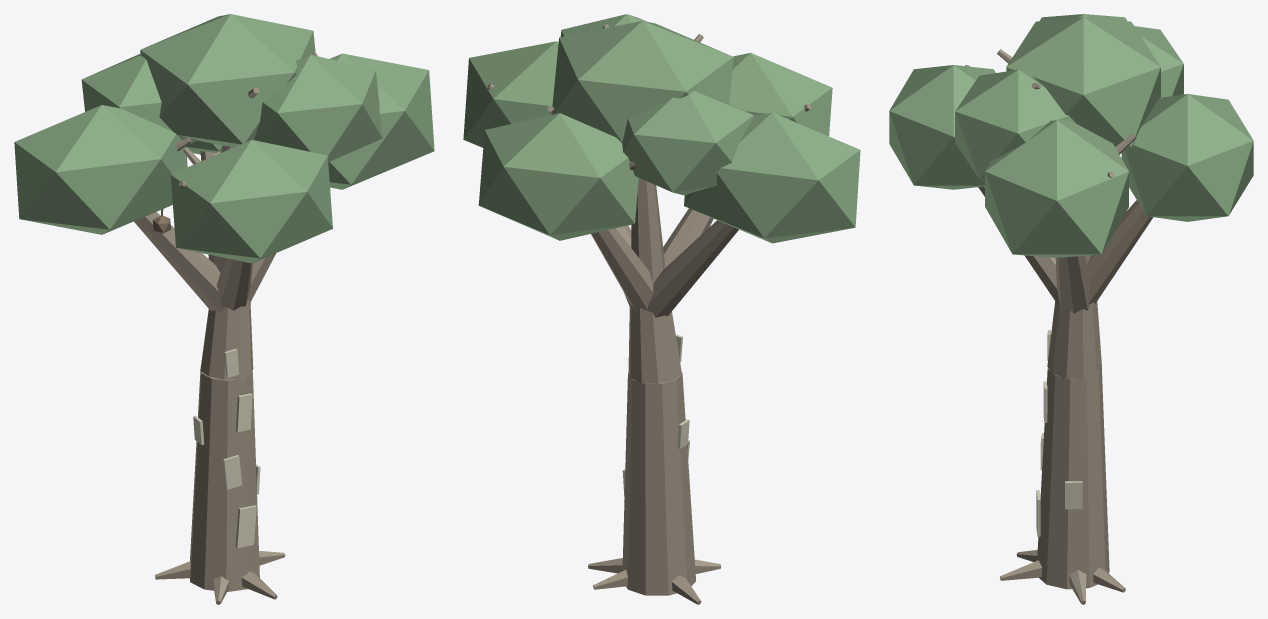
Rendered from xinhua-plane-tree-identity.glb.
3 views of the same model, side by side, from view 1: azimuth 30°, elevation 25°; view 2: azimuth 150°, elevation 25°; view 3: azimuth 270°, elevation 25° (orthographic).
Visible parts, largest first — view 1: xinhua-plane-tree-foliage-identity, xinhua-plane-tree-bark-identity, xinhua-plane-tree-bark-pale-identity; view 2: xinhua-plane-tree-foliage-identity, xinhua-plane-tree-bark-identity; view 3: xinhua-plane-tree-foliage-identity, xinhua-plane-tree-bark-identity, xinhua-plane-tree-bark-pale-identity.
Boxes of the visible parts, x1,y1,x2,y2 form: xinhua-plane-tree-foliage-identity: [14, 14, 434, 263]; xinhua-plane-tree-bark-identity: [134, 52, 317, 604]; xinhua-plane-tree-bark-pale-identity: [193, 348, 260, 548]; xinhua-plane-tree-foliage-identity: [463, 14, 860, 243]; xinhua-plane-tree-bark-identity: [487, 24, 811, 604]; xinhua-plane-tree-foliage-identity: [889, 14, 1253, 257]; xinhua-plane-tree-bark-identity: [965, 49, 1153, 604]; xinhua-plane-tree-bark-pale-identity: [1036, 330, 1082, 536].
Bounding box in the file's own units: 5.24 × 7.05 × 4.13.
